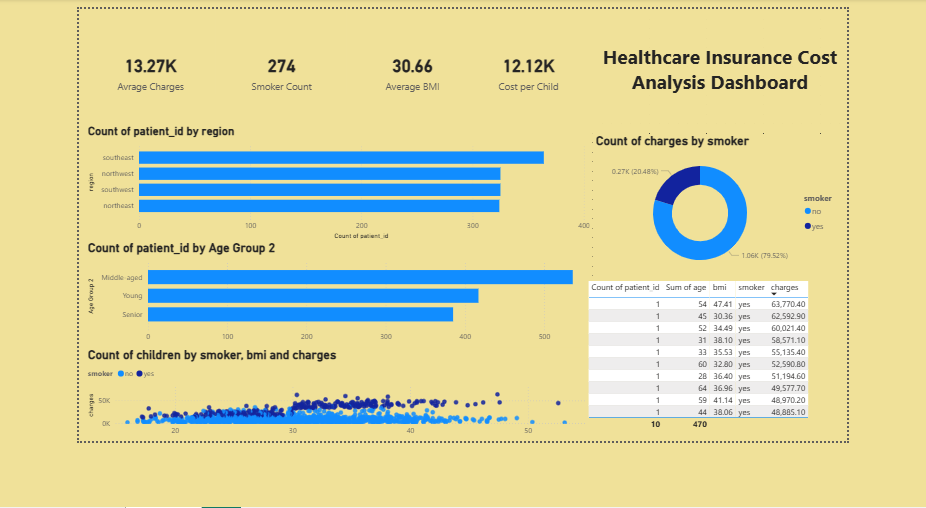

What the dashboard file says about the page in this screenshot:
{"tool":"powerbi","page":{"name":"Page 1","canvas":[1280,720],"ordinal":0},"visuals":[{"type":"card","fields":{"Values":["healthcare patients.Avrage Charges"]},"box":[10.1,0,218.4,208.3],"z":0},{"type":"card","fields":{"Values":["healthcare patients.Smoker Count"]},"box":[228.5,0,218.4,208.3],"z":1000},{"type":"card","fields":{"Values":["healthcare patients.Average BMI"]},"box":[446.8,0,218.4,208.3],"z":2000},{"type":"card","fields":{"Values":["healthcare patients.Cost per Child"]},"box":[640,0,218.4,208.3],"z":3000},{"type":"clusteredBarChart","fields":{"Category":["healthcare patients.region"],"Y":["CountNonNull(healthcare patients.patient_id)"]},"box":[10.7,191.1,846.4,196.4],"z":4000},{"type":"clusteredBarChart","fields":{"Category":["healthcare patients.Age Group 2"],"Y":["CountNonNull(healthcare patients.patient_id)"]},"box":[10.7,387.5,846.4,176.8],"z":5000},{"type":"scatterChart","fields":{"X":["healthcare patients.bmi"],"Y":["healthcare patients.charges"],"Size":["CountNonNull(healthcare patients.children)"],"Series":["healthcare patients.smoker"]},"box":[10.7,564.3,848.2,155.4],"z":6000},{"type":"tableEx","fields":{"Values":["CountNonNull(healthcare patients.patient_id)","Sum(healthcare patients.age)","healthcare patients.bmi","healthcare patients.smoker","healthcare patients.charges"]},"box":[842.9,448.2,437.5,271.4],"z":7000},{"type":"textbox","box":[857.1,0,423.2,207.1],"z":8000},{"type":"donutChart","fields":{"Category":["healthcare patients.smoker"],"Y":["CountNonNull(healthcare patients.charges)"]},"box":[857,207.6,422.8,240.5],"z":9000}]}

Visuals, with their boxes in screenshot pixels (x1, y1, x2, y2), scaled from the page's 1280x720 canvas onto the 926x508 screenshot:
card - healthcare patients.Avrage Charges: <region>7, 0, 165, 147</region>
card - healthcare patients.Smoker Count: <region>165, 0, 323, 147</region>
card - healthcare patients.Average BMI: <region>323, 0, 481, 147</region>
card - healthcare patients.Cost per Child: <region>463, 0, 621, 147</region>
clusteredBarChart - healthcare patients.region x CountNonNull(healthcare patients.patient_id): <region>8, 135, 620, 273</region>
clusteredBarChart - healthcare patients.Age Group 2 x CountNonNull(healthcare patients.patient_id): <region>8, 273, 620, 398</region>
scatterChart - healthcare patients.bmi x healthcare patients.charges: <region>8, 398, 621, 507</region>
tableEx - CountNonNull(healthcare patients.patient_id) x Sum(healthcare patients.age): <region>610, 316, 925, 507</region>
textbox: <region>620, 0, 925, 146</region>
donutChart - healthcare patients.smoker x CountNonNull(healthcare patients.charges): <region>620, 146, 925, 316</region>
